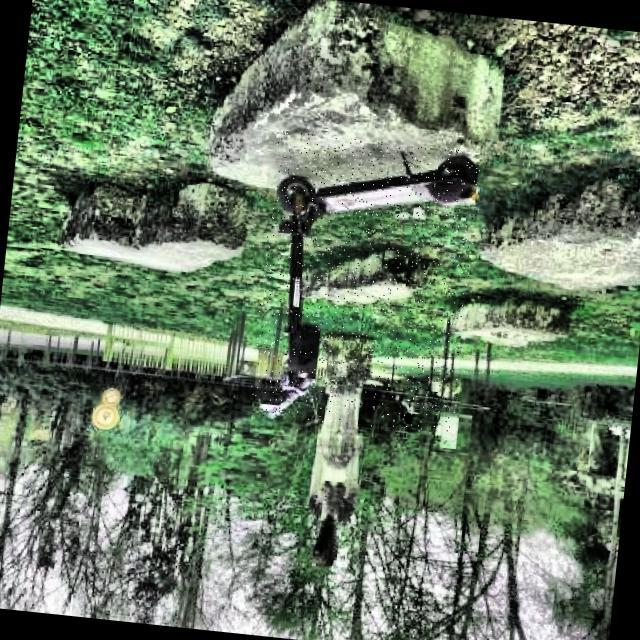bike: (274, 152, 480, 381)
